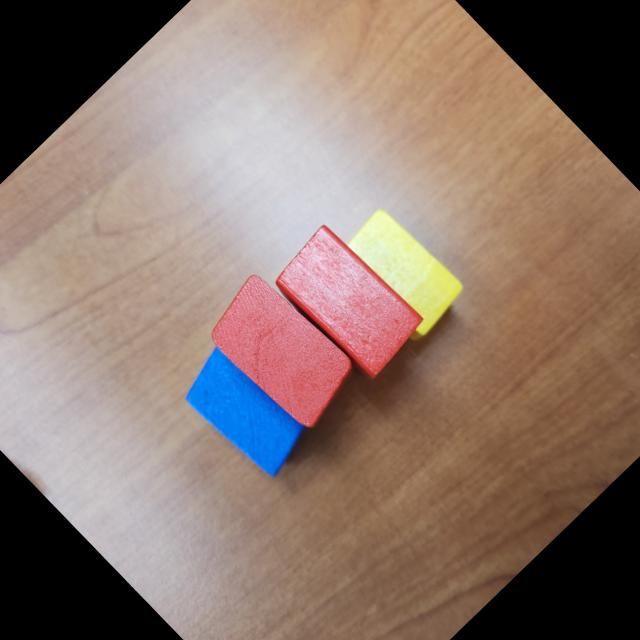blue: (174, 341, 316, 485)
red: (198, 264, 370, 438), (267, 218, 431, 384)
yellow: (329, 202, 472, 346)
